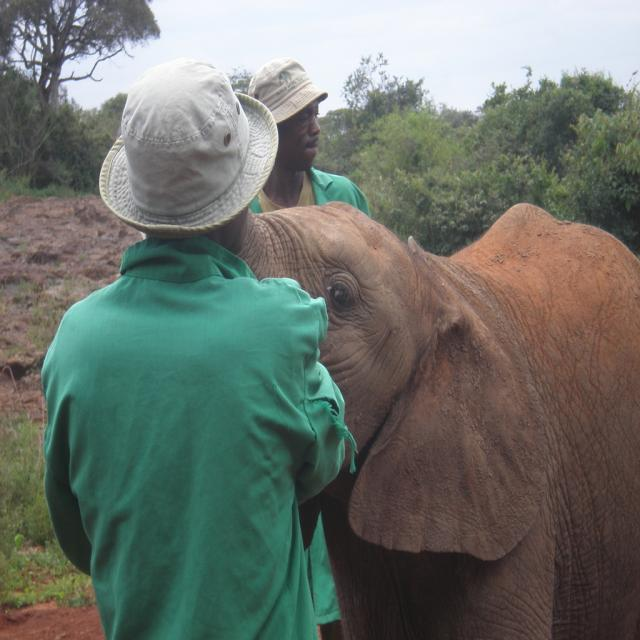elephant: (215, 170, 635, 626)
